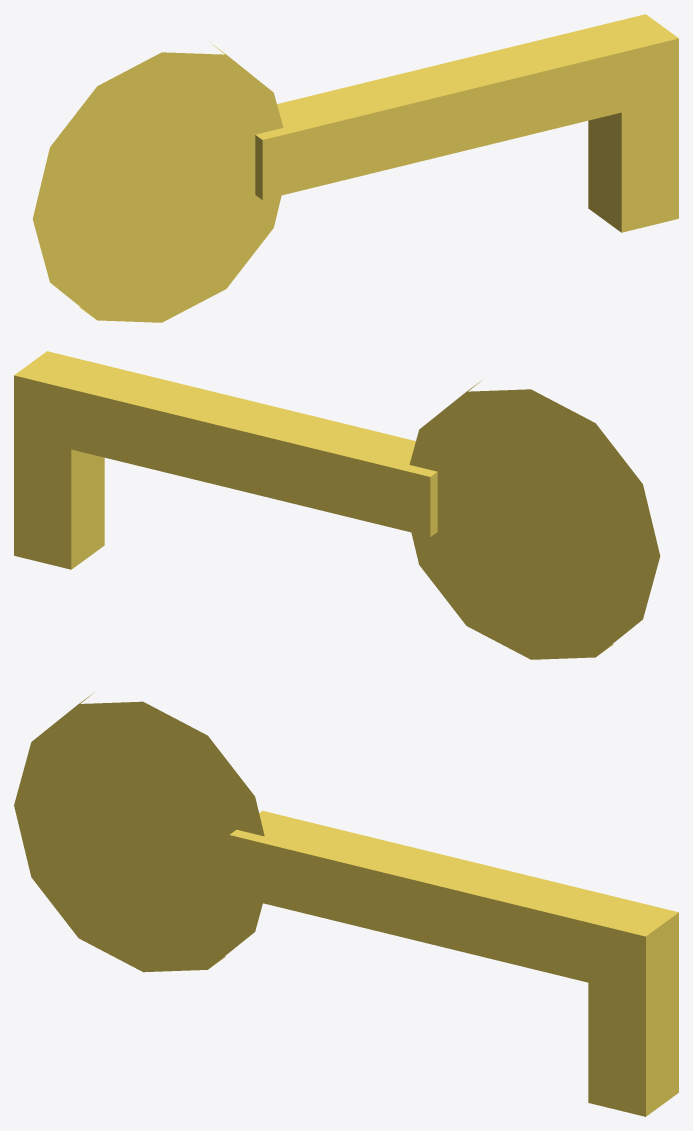
File: relic_key.glb
3 renders of one model, top to bottom at view 1: azimuth 30°, elevation 25°; view 2: azimuth 150°, elevation 25°; view 3: azimuth 330°, elevation 25°, orthographic.
Visible parts, largest first — view 1: relic_key; view 2: relic_key; view 3: relic_key.
Part boxes in pixels (x1,y1,x2,y2): relic_key: (32,14,678,322); relic_key: (14,351,660,659); relic_key: (14,692,678,1116).
Size of the model in its own units: 0.89 by 0.38 by 0.08.
